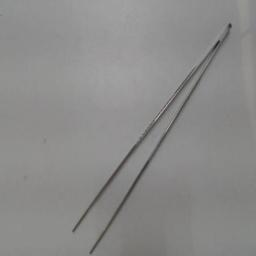DeBakey Dissector: (68, 15, 238, 255)
